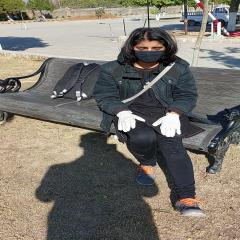gloved: (154, 114, 182, 137), (117, 111, 144, 132)
